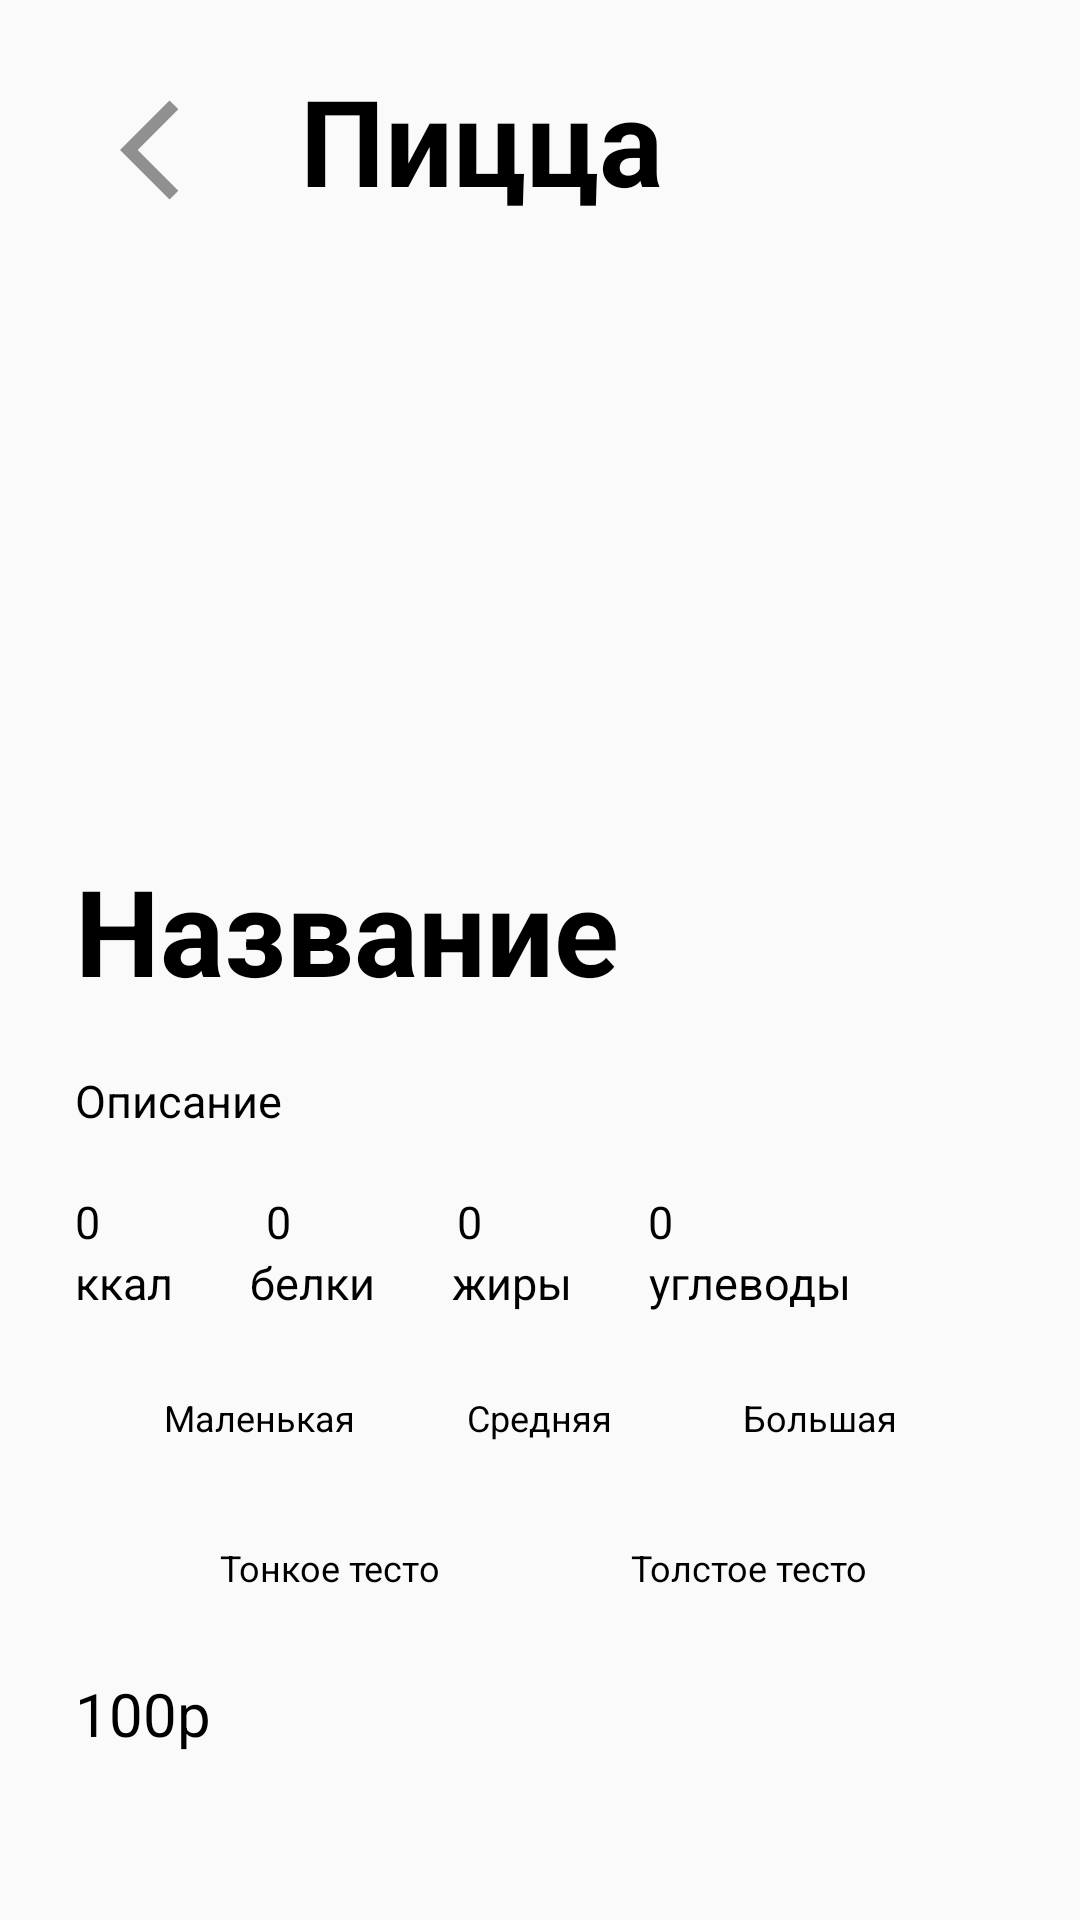

Icons on this 1080x1920 Android screen, each with its box as BBox(x1, y1, x2, y2):
back: BBox(120, 100, 178, 200)
